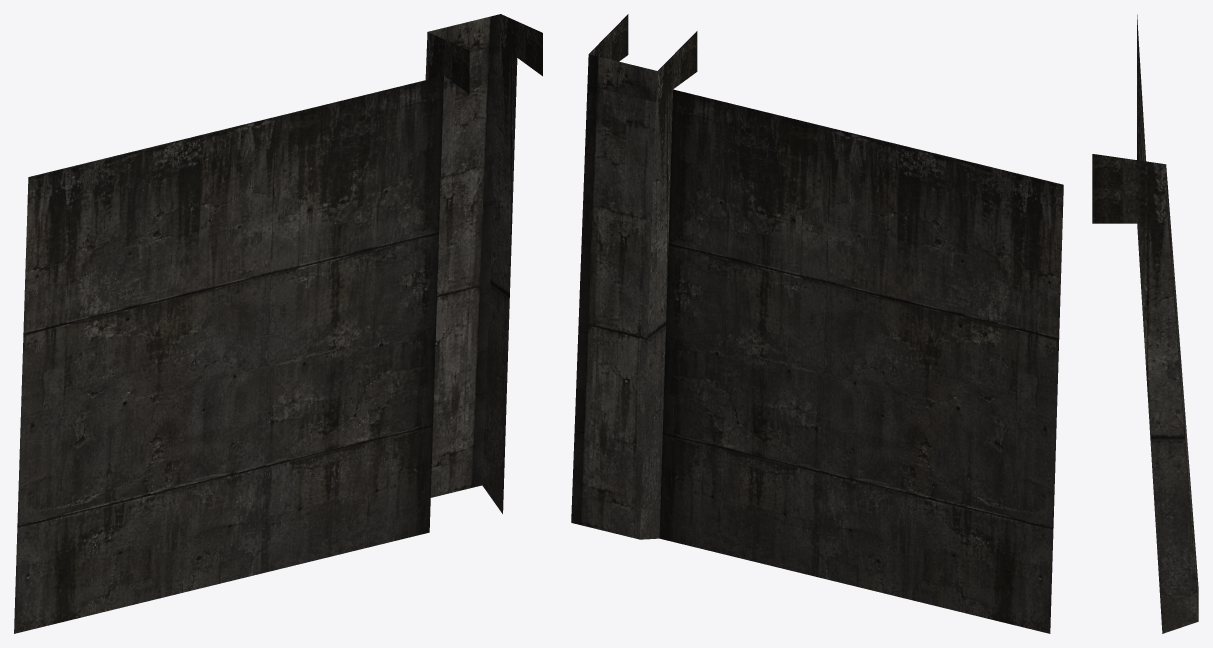
Rendered from BigWall_CUT.fbx.
The picture shows the model from 3 angles, left to right: view 1: azimuth 30°, elevation 25°; view 2: azimuth 150°, elevation 25°; view 3: azimuth 270°, elevation 25°; orthographic projection. The views are drawn at different scales.
Visible parts, largest first — view 1: BigWall.001; view 2: BigWall.001; view 3: BigWall.001.
Part boxes in pixels (left/top/right/bottom): BigWall.001: left=14, top=14, right=542, bottom=633; BigWall.001: left=571, top=14, right=1063, bottom=633; BigWall.001: left=1092, top=14, right=1198, bottom=633.
Bounding box in the file's own units: 11 × 10.98 × 2.36.
